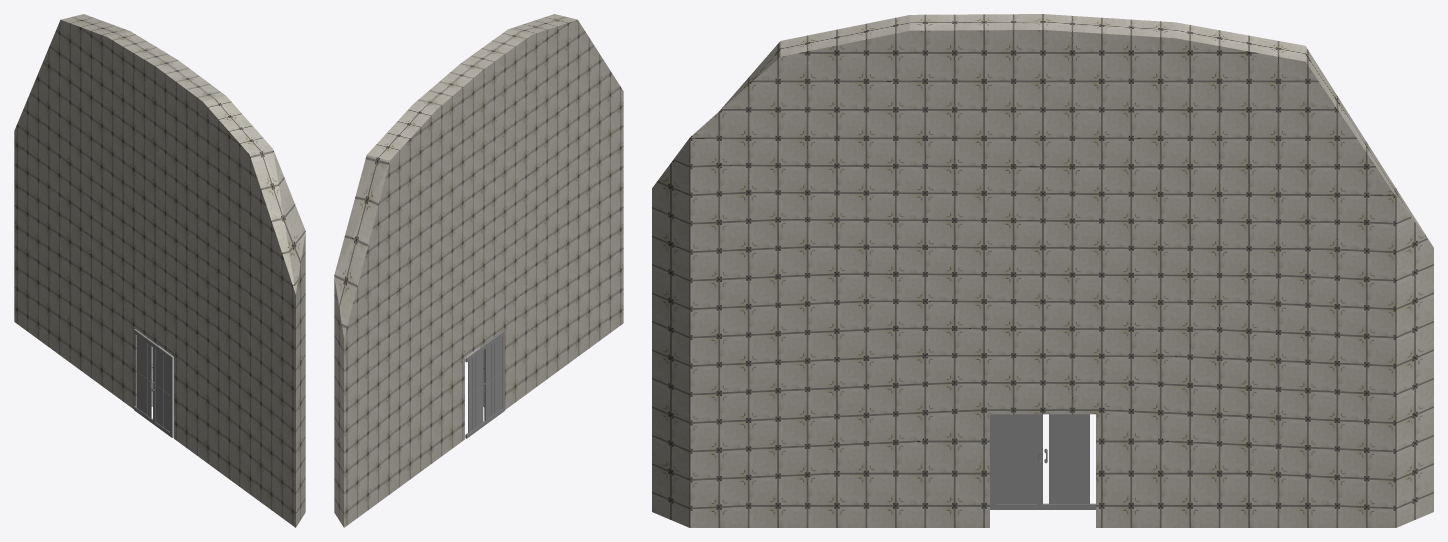
File: Front Wall.FBX
3 renders of one model, left to right at view 1: azimuth 30°, elevation 25°; view 2: azimuth 150°, elevation 25°; view 3: azimuth 270°, elevation 25°, orthographic. The views are drawn at different scales.
Visible parts, largest first — view 1: 126:1:1, 128:18:5, 128:38:5, 128:36:5; view 2: 126:1:1, 128:18:5, 128:38:5, 128:36:5; view 3: 126:1:1, 128:18:5, 128:38:5, 128:36:5.
Boxes of the visible parts, left/top/right/bottom form: 126:1:1: left=14, top=14, right=305, bottom=527; 128:18:5: left=136, top=335, right=151, bottom=418; 128:38:5: left=155, top=349, right=169, bottom=431; 128:36:5: left=152, top=347, right=173, bottom=434; 126:1:1: left=334, top=14, right=623, bottom=527; 128:18:5: left=468, top=351, right=483, bottom=432; 128:38:5: left=488, top=337, right=502, bottom=418; 128:36:5: left=484, top=335, right=504, bottom=420; 126:1:1: left=652, top=14, right=1433, bottom=527; 128:18:5: left=1049, top=414, right=1089, bottom=504; 128:38:5: left=996, top=414, right=1036, bottom=504; 128:36:5: left=990, top=414, right=1042, bottom=504.
Size of the model in its own units: 193 by 2415 by 3435.
2 materials, 1 textured.
